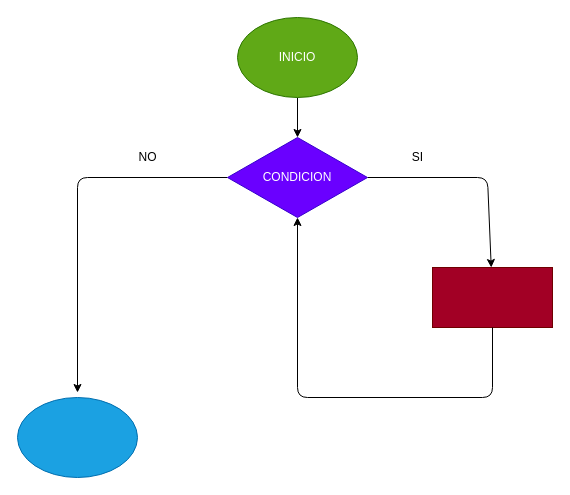
This 570x495 diagram has some shape labels left out. Here are the shapes that lost their labels. From the top down, the centre of each, then its label:
point (492, 297): INSTRUCCIONES
point (77, 437): Fin
